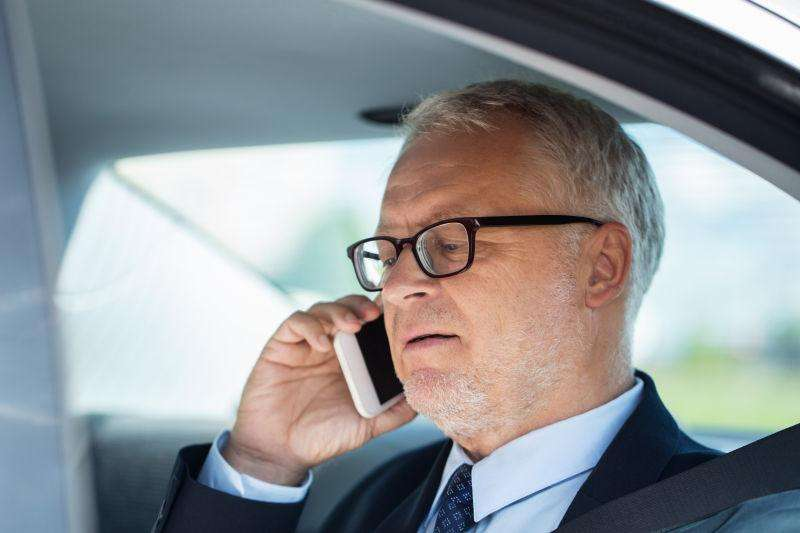calling: (227, 292, 418, 474)
